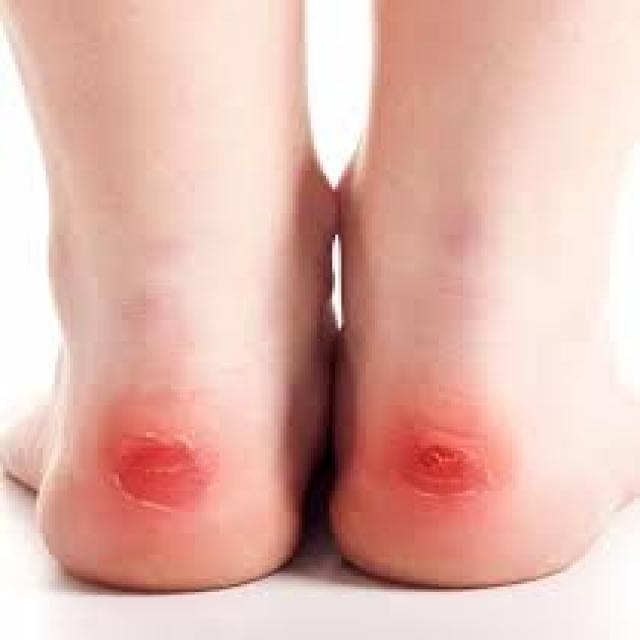stage-2: (106, 439, 200, 506), (393, 428, 480, 499)
